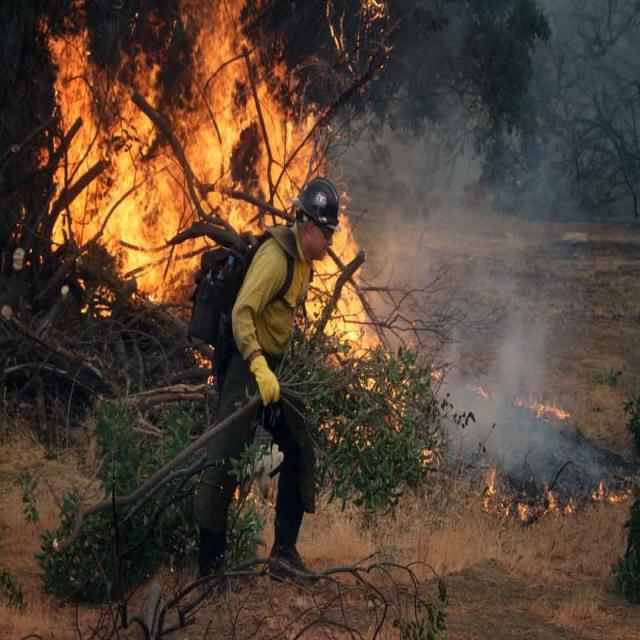Fire: (38, 32, 350, 327)
Smoke: (400, 138, 587, 447)
